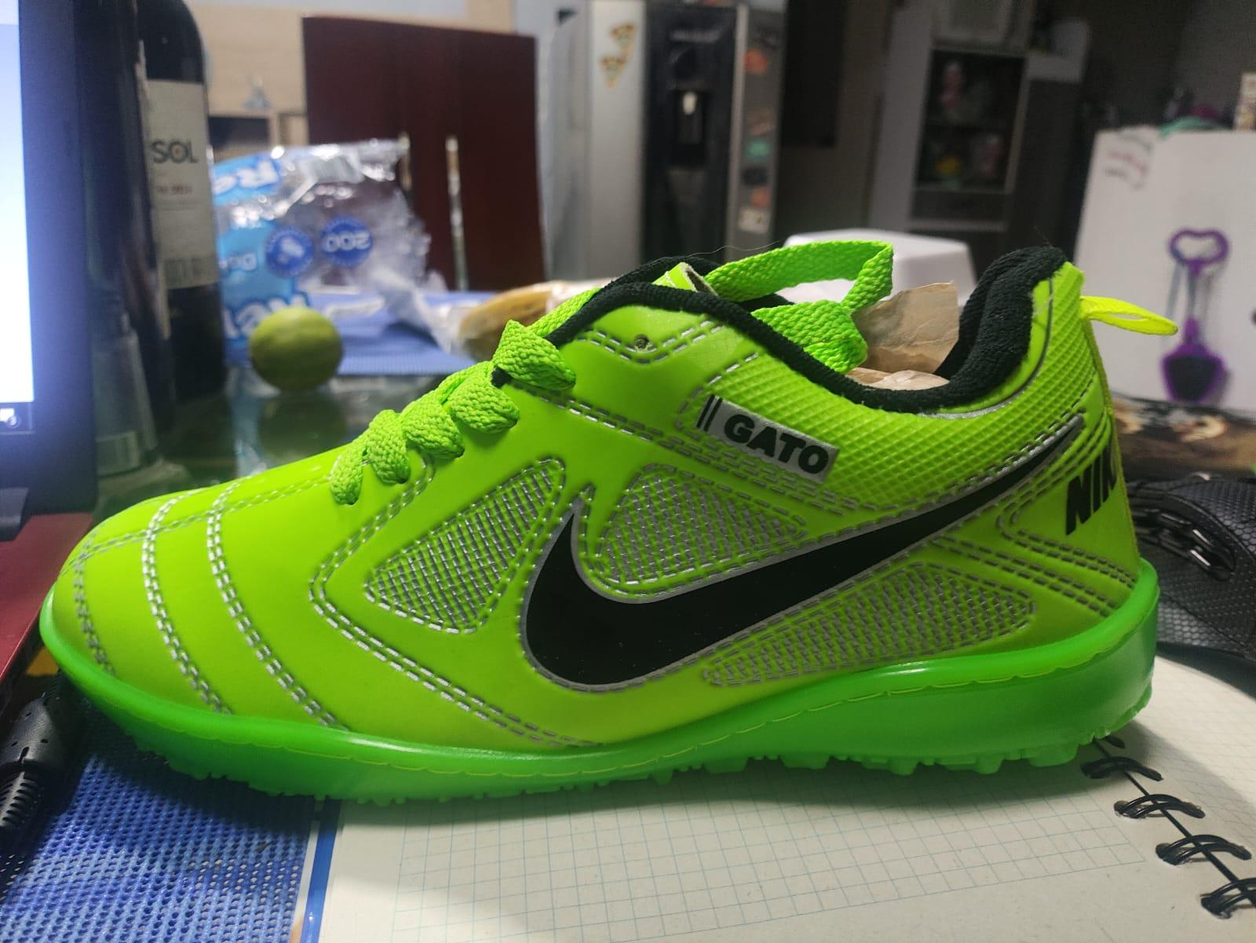marca: (520, 445, 1061, 692)
shoe: (41, 241, 1170, 800)
texto: (693, 377, 850, 496), (1062, 430, 1117, 561)
